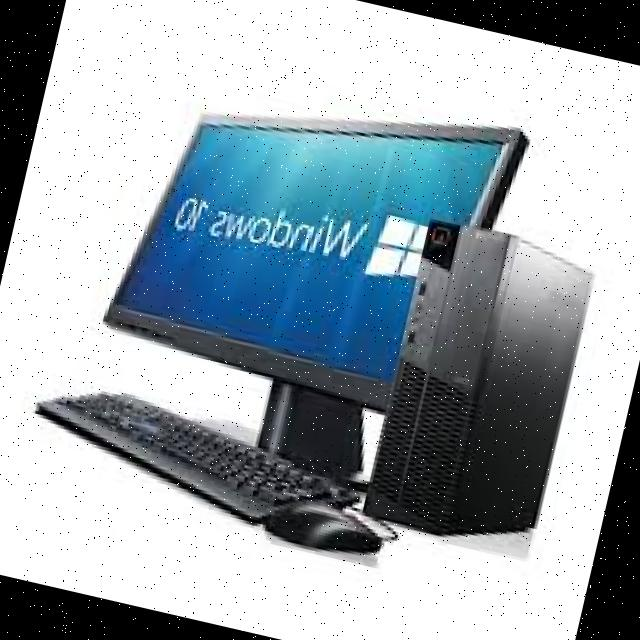Computer: (334, 209, 614, 583)
Monitor: (85, 33, 534, 424)
